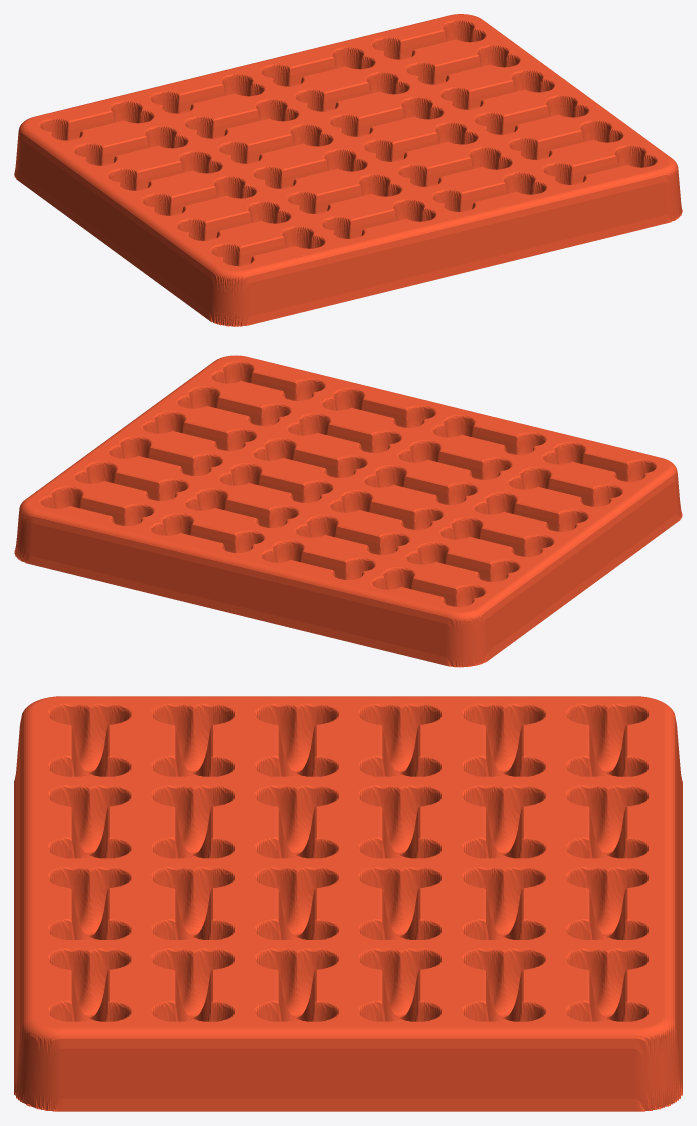
File: mold.glb
The picture shows the model from 3 angles, top to bottom: view 1: azimuth 30°, elevation 25°; view 2: azimuth 150°, elevation 25°; view 3: azimuth 270°, elevation 25°; orthographic projection. The views are drawn at different scales.
Visible parts, largest first — view 1: geometry_0; view 2: geometry_0; view 3: geometry_0.
Boxes of the visible parts, x1,y1,x2,y2 form: geometry_0: (14, 14, 682, 326); geometry_0: (14, 355, 682, 667); geometry_0: (14, 696, 682, 1111).
Size of the model in its own units: 0.1561 by 0.0159 by 0.1273.
